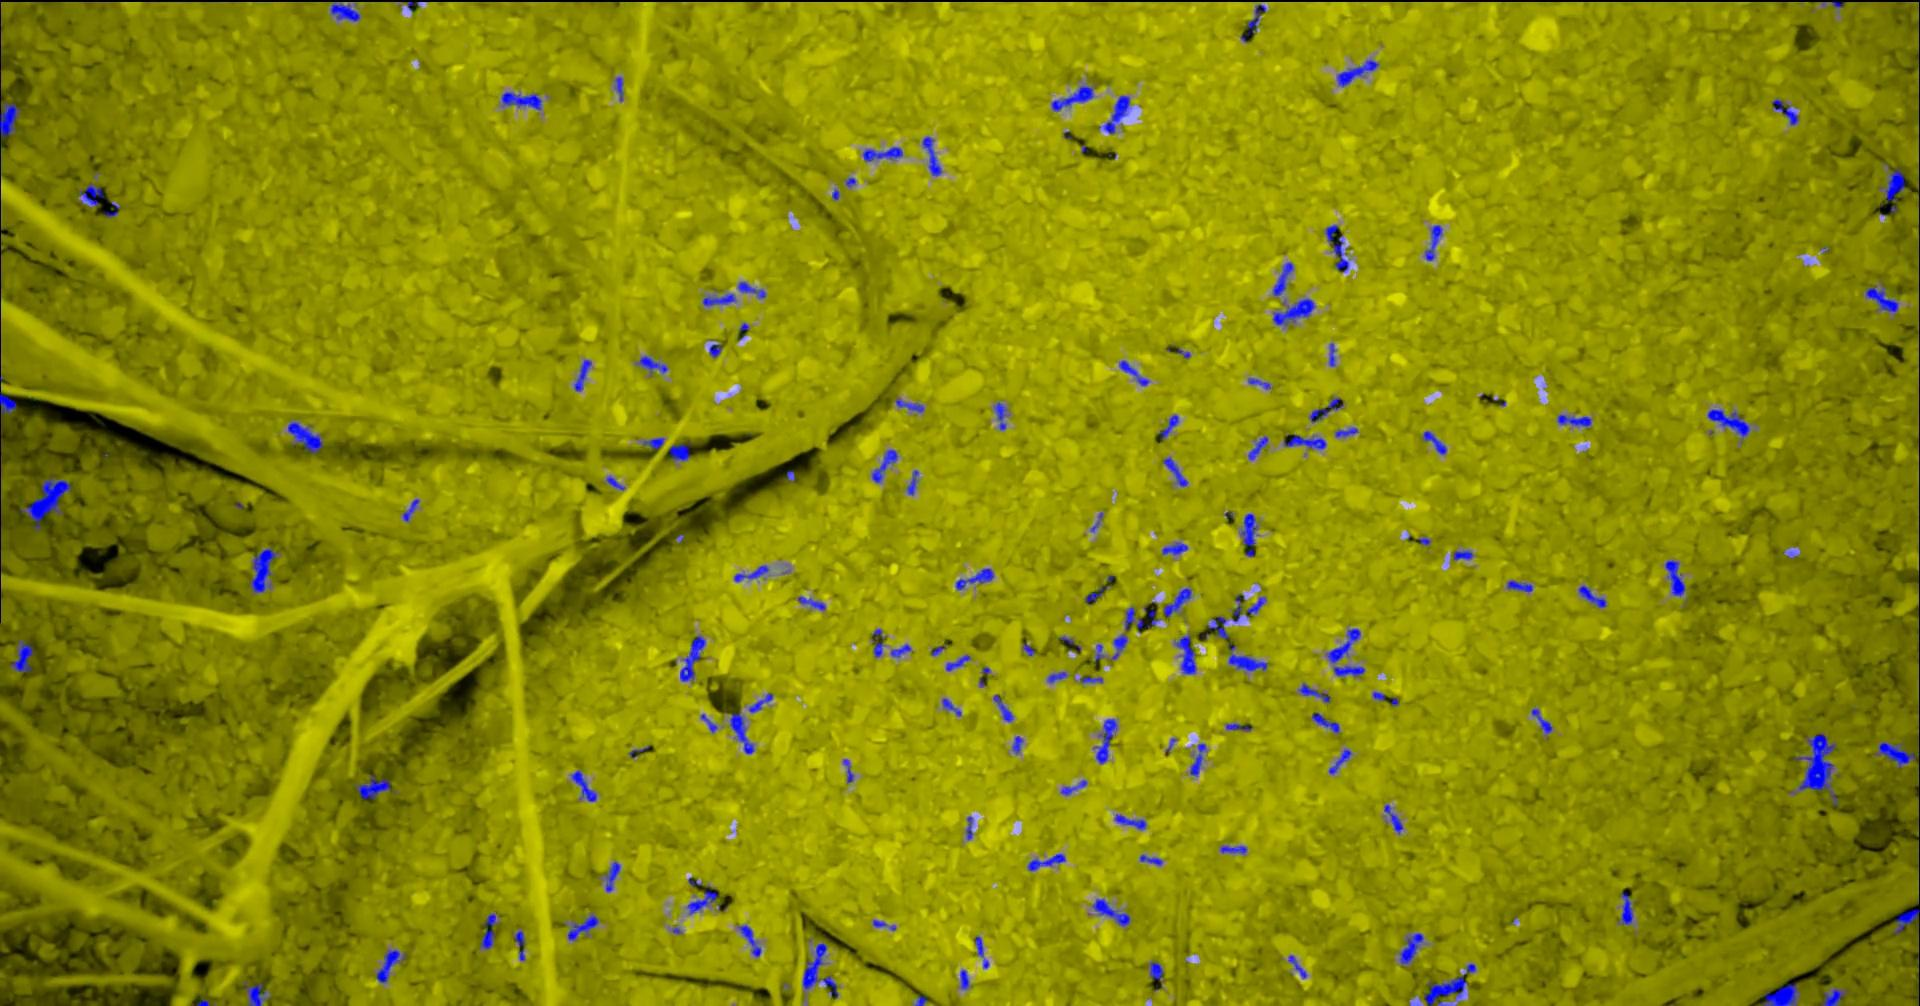ant: (22, 478, 72, 528), (1425, 963, 1477, 1005), (804, 942, 841, 998), (1876, 724, 1920, 767), (1328, 627, 1366, 676), (251, 547, 279, 592), (1709, 409, 1751, 438), (681, 635, 707, 681), (1338, 58, 1380, 86), (1101, 95, 1131, 133), (290, 420, 324, 453), (1274, 298, 1316, 325), (1095, 718, 1119, 763), (1229, 641, 1269, 669), (1327, 224, 1350, 271), (1053, 85, 1095, 111), (356, 774, 396, 799), (1095, 898, 1131, 926), (377, 949, 408, 982), (731, 713, 756, 753), (1233, 593, 1267, 621), (1126, 606, 1161, 633), (1867, 285, 1900, 311), (872, 448, 899, 481), (1086, 575, 1115, 605), (690, 885, 719, 915), (1164, 587, 1192, 617), (571, 770, 598, 801), (1764, 982, 1801, 1005), (1310, 398, 1345, 422), (957, 568, 996, 589), (569, 913, 599, 940), (923, 136, 943, 175), (1177, 635, 1197, 674), (11, 639, 36, 672), (739, 923, 763, 956), (503, 91, 543, 111), (1120, 359, 1150, 385), (1399, 932, 1425, 963), (1274, 260, 1295, 295), (1, 102, 22, 137), (1666, 559, 1686, 594), (1242, 513, 1258, 556), (1773, 99, 1801, 124), (1164, 457, 1189, 486), (1895, 908, 1920, 934), (331, 0, 361, 22), (1887, 168, 1906, 201), (1029, 854, 1067, 870), (863, 146, 904, 161), (244, 981, 269, 1005), (1426, 224, 1443, 260), (1300, 683, 1332, 702), (1580, 586, 1608, 607), (1285, 434, 1327, 448), (1248, 4, 1267, 34), (80, 183, 105, 206), (994, 694, 1015, 721), (1313, 713, 1341, 733), (575, 359, 593, 391), (640, 354, 669, 373), (1385, 804, 1404, 833), (1423, 431, 1448, 453), (1330, 749, 1352, 774), (1191, 743, 1208, 776), (481, 913, 497, 949), (1116, 813, 1148, 829), (735, 565, 770, 580), (1209, 615, 1230, 639), (1533, 708, 1553, 733), (975, 935, 990, 968), (739, 281, 767, 298), (750, 692, 775, 713), (1161, 414, 1180, 439), (606, 861, 622, 890), (1620, 890, 1634, 923), (1112, 633, 1129, 659), (1062, 779, 1088, 795), (1822, 988, 1849, 1005), (1250, 436, 1269, 459), (1289, 954, 1308, 977), (703, 293, 737, 306), (670, 441, 692, 460), (404, 498, 422, 521), (1558, 414, 1592, 426), (897, 398, 924, 412), (799, 596, 827, 610), (1, 392, 18, 415), (996, 401, 1008, 431), (947, 654, 971, 669), (872, 627, 885, 655), (943, 699, 963, 716), (702, 713, 719, 732), (516, 930, 526, 960), (908, 469, 919, 495), (1163, 542, 1189, 554), (607, 476, 626, 490), (1150, 962, 1164, 981), (1250, 377, 1272, 389), (1142, 854, 1164, 865), (1509, 580, 1534, 591), (891, 644, 912, 657), (644, 437, 665, 448), (1336, 427, 1360, 437), (1222, 845, 1248, 854), (844, 760, 855, 782), (616, 76, 625, 102), (403, 0, 422, 11), (1049, 671, 1068, 682), (1454, 549, 1474, 559), (1227, 723, 1253, 730), (961, 969, 970, 989), (1330, 343, 1337, 366), (1015, 735, 1023, 754), (711, 344, 724, 357), (968, 815, 974, 840), (1081, 676, 1103, 682), (1919, 796, 1920, 871), (1919, 927, 1920, 982)
